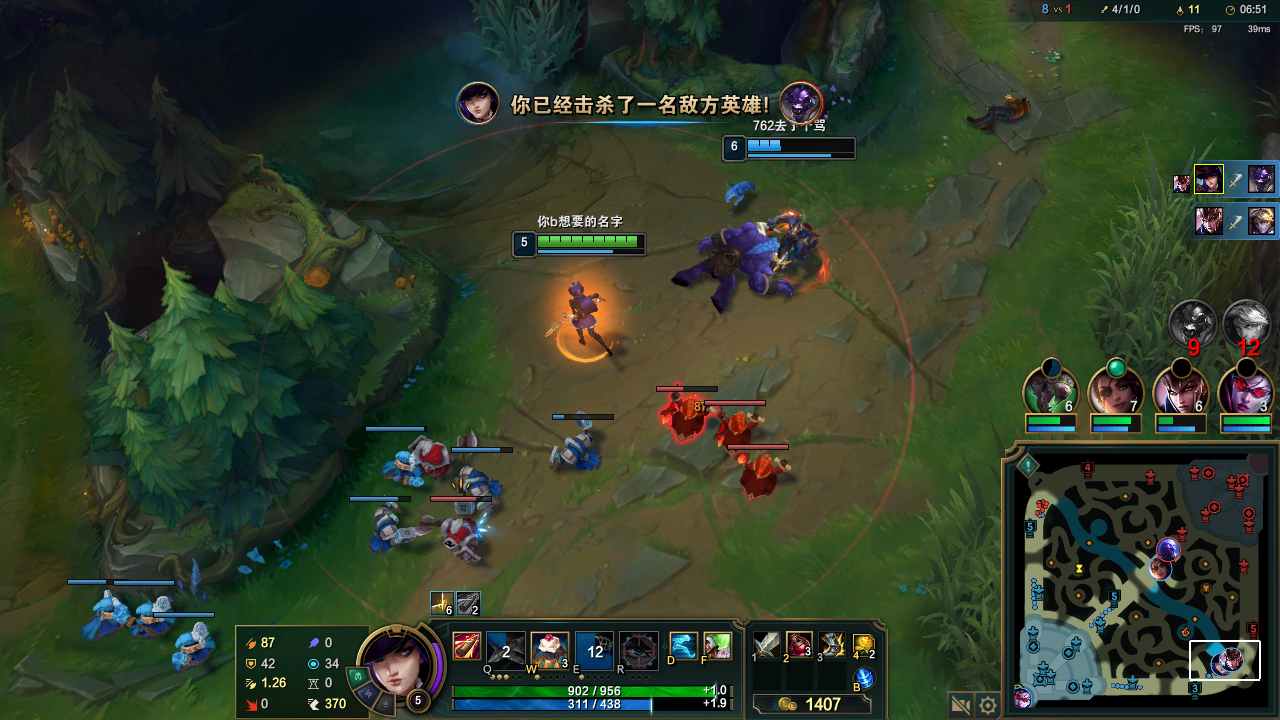DFXB: (443, 513, 488, 559), (665, 394, 706, 438), (742, 457, 782, 498), (719, 407, 750, 448)
WFXB: (371, 505, 429, 557), (375, 442, 421, 484), (454, 461, 496, 505), (174, 623, 212, 665), (558, 429, 595, 467), (88, 598, 123, 635), (135, 600, 164, 635)
